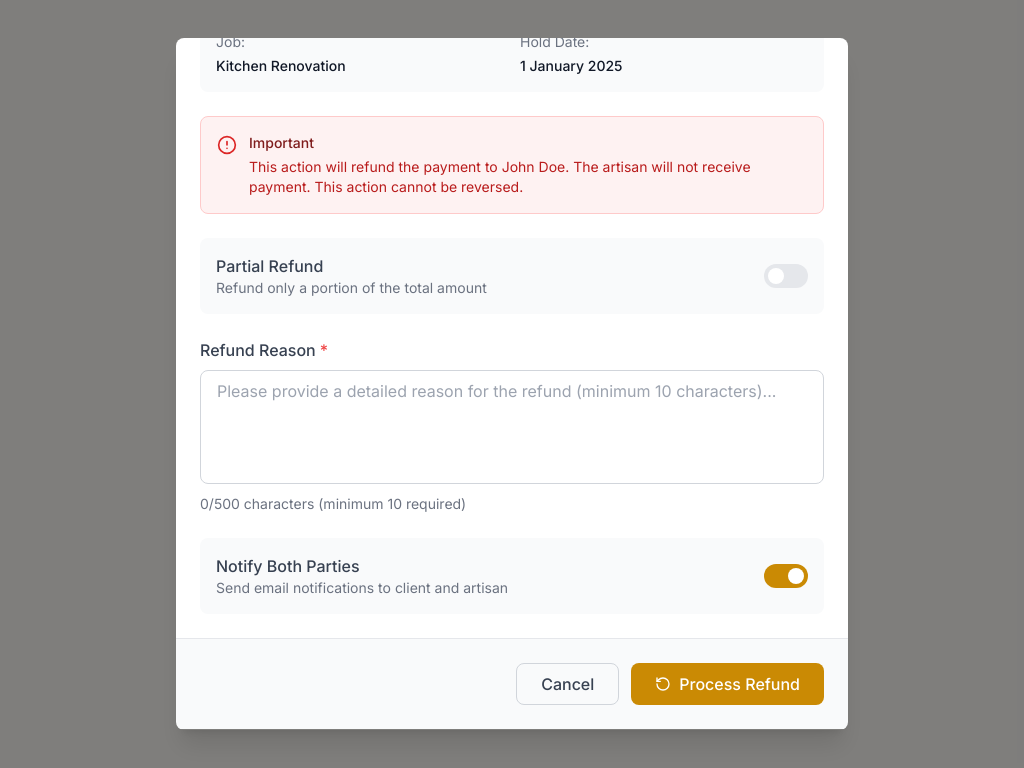
Scenario: RefundModal › should require refund reason
(page scrolled)
Step 1. Click the button "Process Refund" → (728, 684), box x1=631 y1=663 x2=824 y2=705
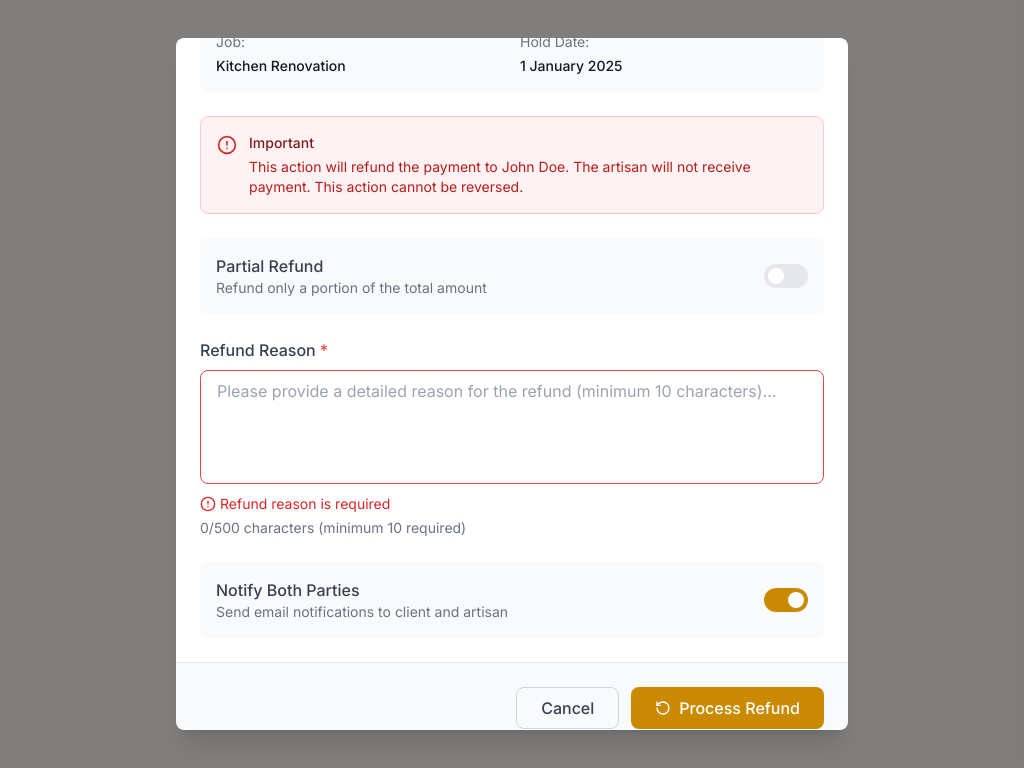
Check: the text "Refund reason is required" is shown, box x1=200 y1=495 x2=390 y2=512
